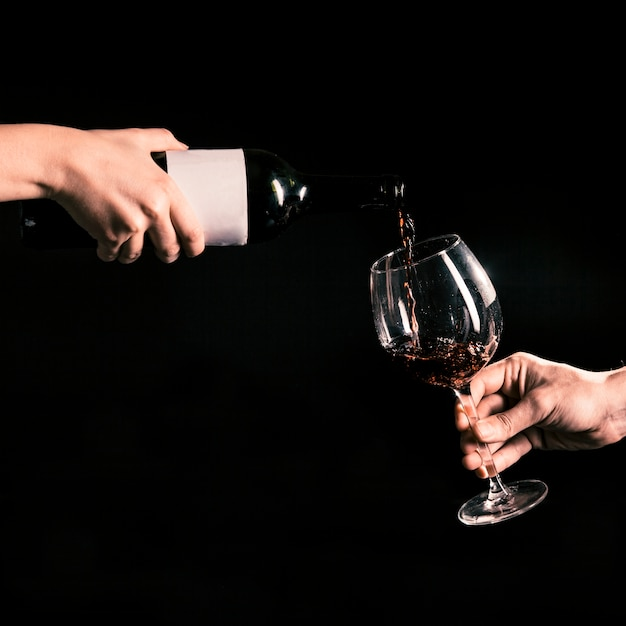alcohol: (367, 236, 550, 528), (22, 143, 414, 252)
